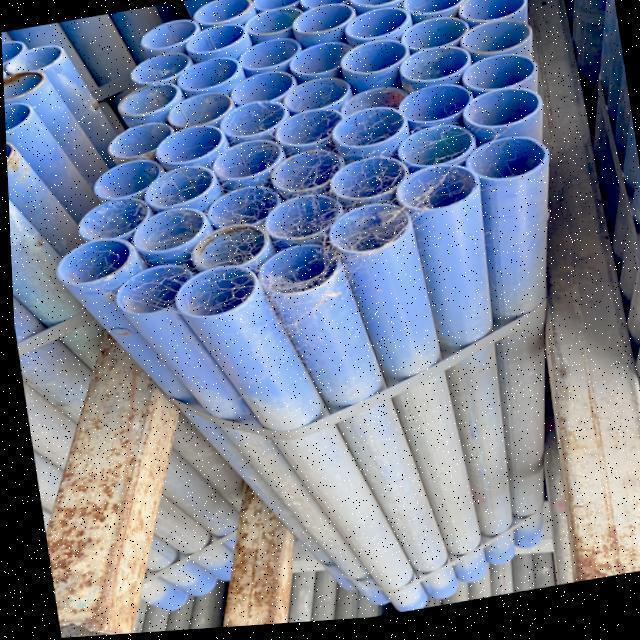pipe: (252, 241, 338, 297), (328, 206, 410, 258), (171, 267, 253, 319), (265, 147, 345, 200), (112, 265, 193, 316), (87, 158, 174, 205), (396, 168, 476, 217), (208, 138, 279, 193), (200, 190, 288, 234), (257, 197, 337, 245), (73, 196, 153, 244), (186, 223, 264, 271), (459, 144, 543, 188), (395, 125, 472, 173), (53, 238, 129, 286), (128, 207, 202, 256), (394, 89, 472, 135), (329, 159, 405, 206), (456, 95, 539, 137), (450, 58, 533, 100), (101, 122, 180, 166), (139, 167, 215, 212), (330, 111, 404, 156), (153, 124, 226, 169), (271, 114, 343, 159), (284, 44, 364, 83), (217, 105, 288, 147), (126, 46, 194, 89), (396, 52, 475, 89), (277, 78, 350, 118), (390, 22, 475, 56), (164, 91, 236, 131), (116, 83, 181, 124), (222, 74, 300, 108), (238, 39, 302, 80), (341, 43, 408, 80), (458, 20, 523, 58), (290, 7, 362, 41), (174, 58, 238, 96), (450, 0, 520, 32), (244, 5, 304, 42), (182, 26, 246, 60), (347, 10, 408, 45), (139, 19, 199, 53), (334, 93, 408, 120), (191, 0, 254, 28), (2, 43, 62, 71), (404, 0, 468, 24), (3, 69, 44, 101), (351, 0, 411, 13), (304, 0, 358, 14), (257, 0, 302, 13), (4, 104, 26, 129), (2, 41, 19, 62)
